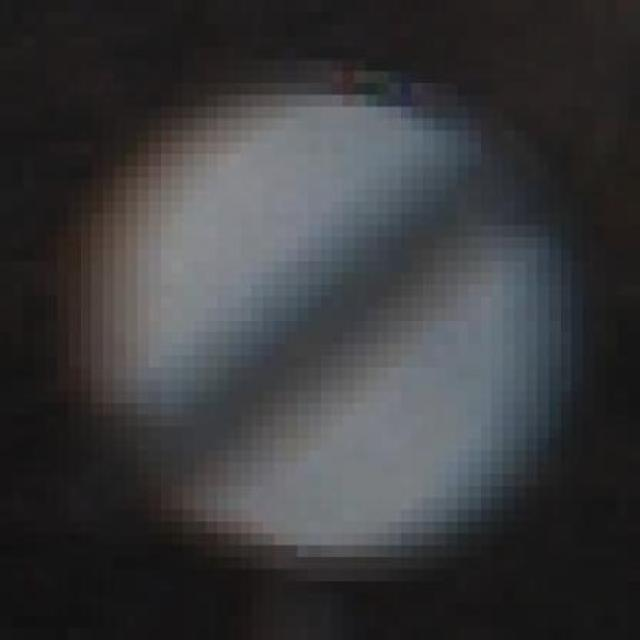End of all speed and passing limits: (68, 71, 583, 569)
